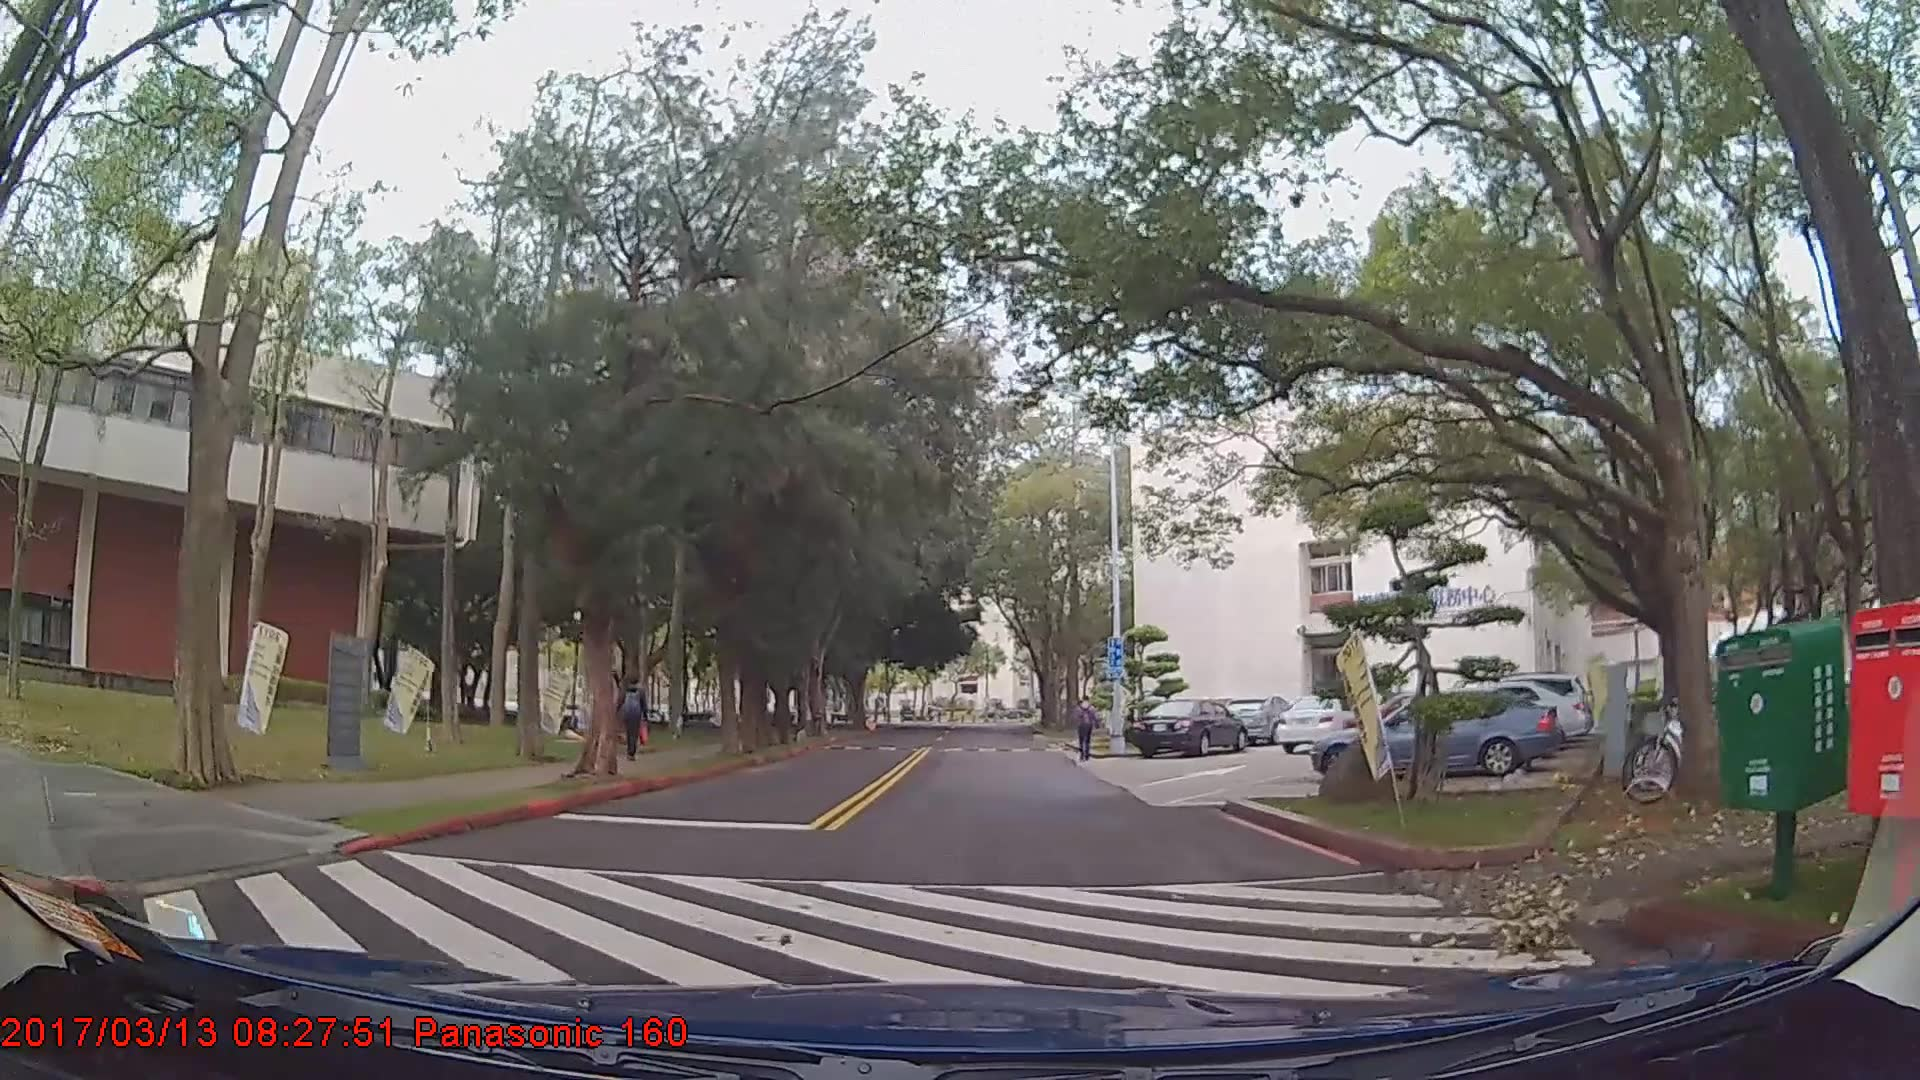pedestrian: (615, 672, 649, 759), (1071, 694, 1101, 761)
vehicle: (1311, 686, 1563, 783), (1422, 678, 1588, 750), (1127, 697, 1248, 757), (1275, 691, 1366, 753), (1223, 695, 1305, 746)
